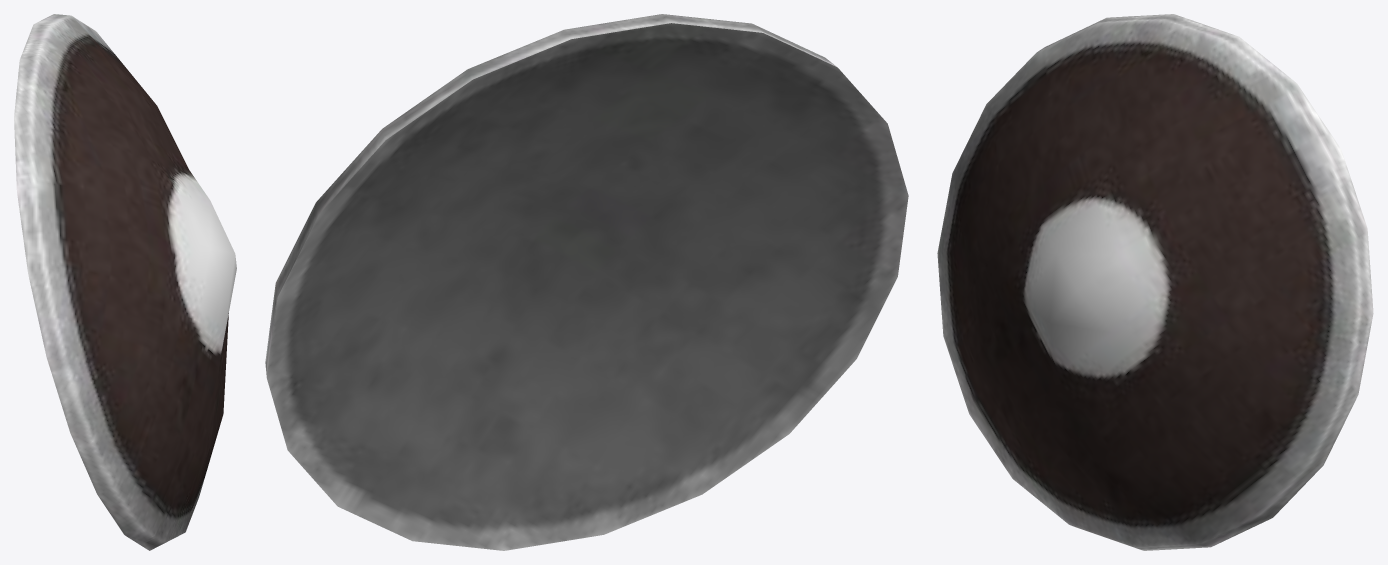
File: rider-shield-slice-coppershields.glb
The picture shows the model from 3 angles, left to right: view 1: azimuth 30°, elevation 25°; view 2: azimuth 150°, elevation 25°; view 3: azimuth 270°, elevation 25°; orthographic projection. The views are drawn at different scales.
Bounding box in the file's own units: 0.4112 × 0.5729 × 0.4868.
1 material, 1 textured.
